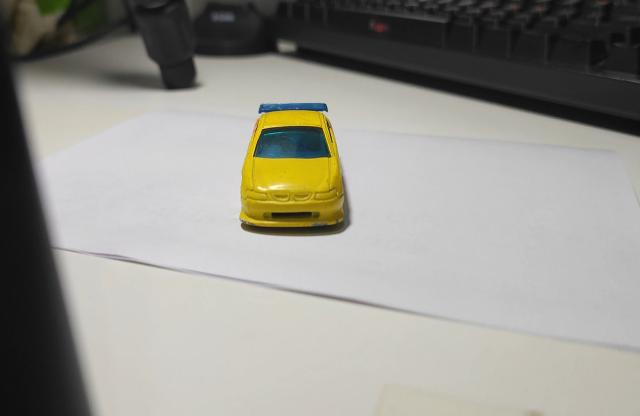02_OZSOME: (239, 103, 351, 238)
